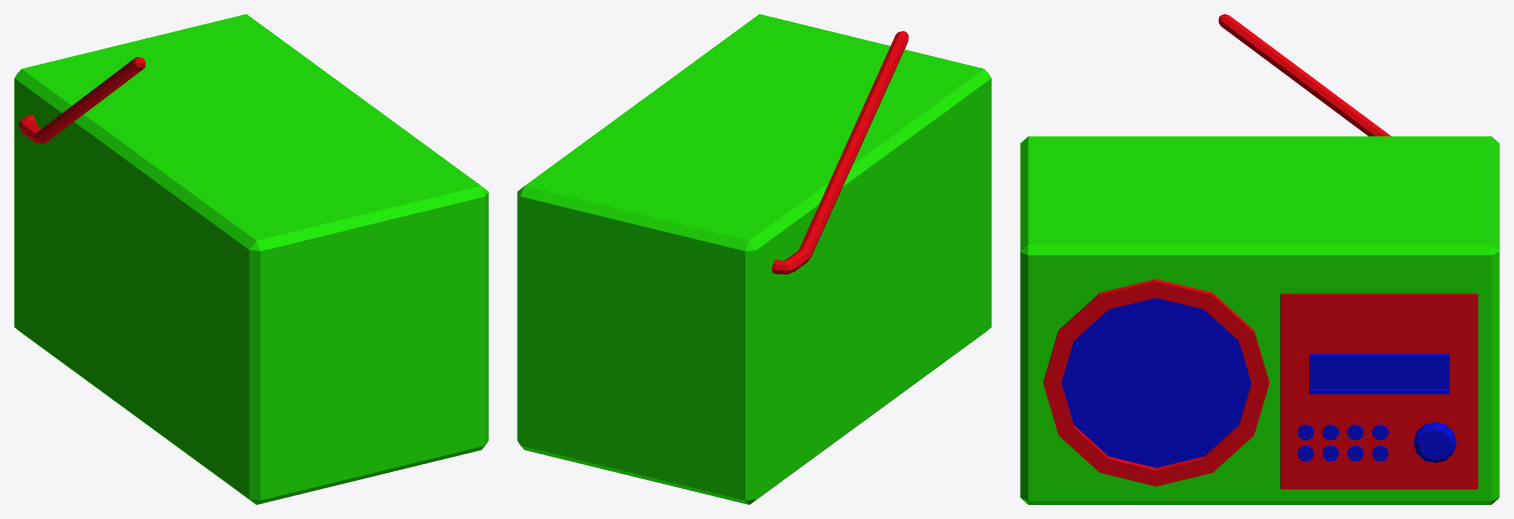
File: Radio.fbx
3 views of the same model, side by side, from view 1: azimuth 30°, elevation 25°; view 2: azimuth 150°, elevation 25°; view 3: azimuth 270°, elevation 25° (orthographic).
Parts seen in each view (by area): view 1: Radio, Circle.003; view 2: Radio, Circle.003; view 3: Radio, Circle, Radio.001, Radio.002, Circle.003, Circle.002, Circle.001.
Part boxes in pixels (bbox=[...]): Radio: bbox=[14, 14, 488, 504]; Circle.003: bbox=[18, 57, 145, 143]; Radio: bbox=[517, 14, 991, 504]; Circle.003: bbox=[771, 31, 908, 274]; Radio: bbox=[1020, 136, 1499, 504]; Circle: bbox=[1043, 279, 1269, 486]; Radio.001: bbox=[1280, 293, 1478, 489]; Radio.002: bbox=[1309, 353, 1449, 394]; Circle.003: bbox=[1218, 14, 1390, 136]; Circle.002: bbox=[1297, 424, 1388, 461]; Circle.001: bbox=[1413, 422, 1456, 462].
Size of the model in its own units: 29.44 by 40.16 by 46.71.
